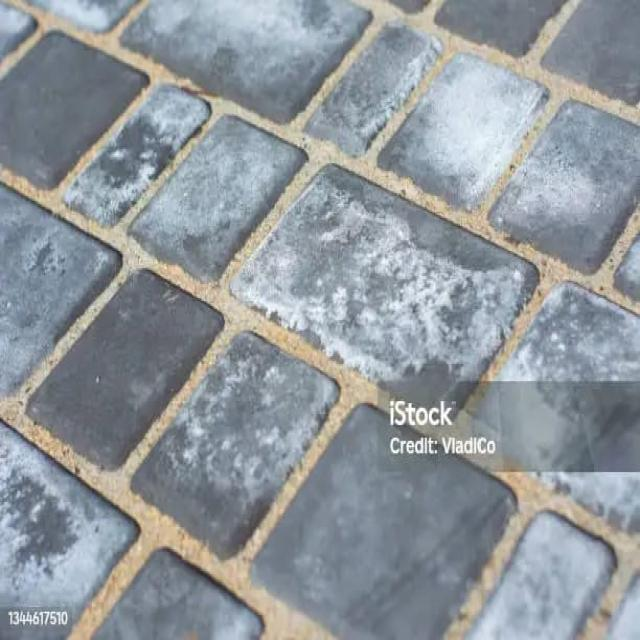stain_mould: (240, 178, 534, 387), (503, 290, 639, 525), (178, 330, 330, 504), (134, 126, 297, 257), (10, 428, 116, 614), (500, 99, 639, 235), (148, 1, 369, 82), (413, 50, 538, 193), (74, 96, 203, 204), (328, 30, 436, 120), (38, 4, 135, 32)
